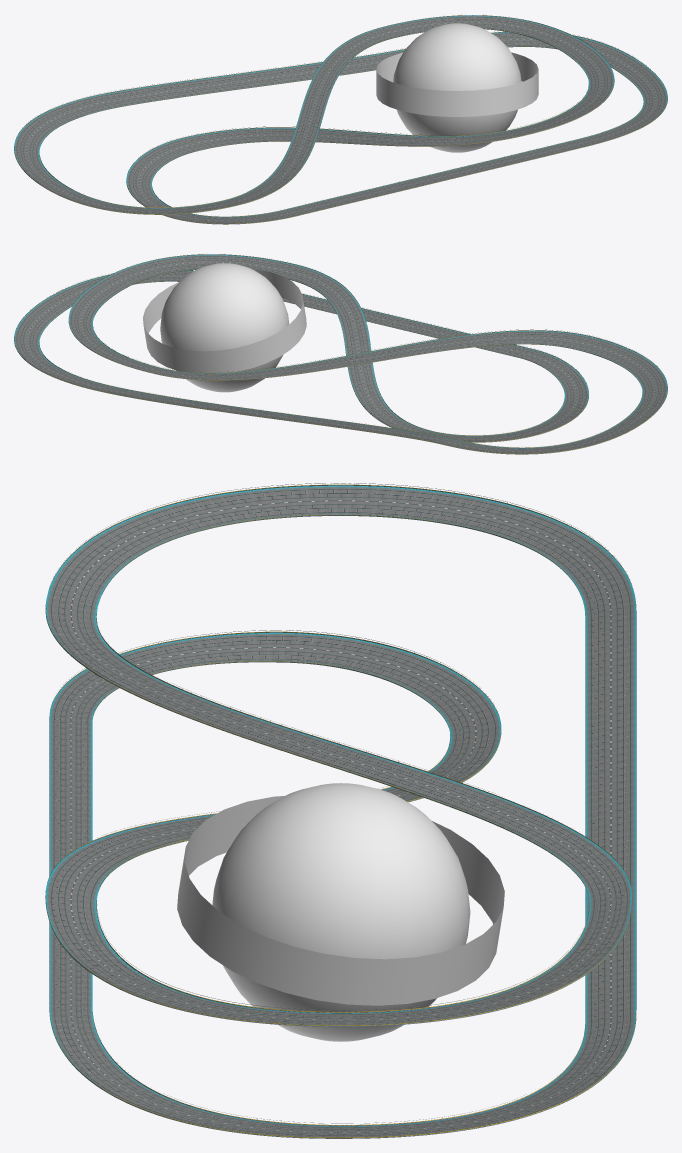
File: ovalTrack.fbx
The picture shows the model from 3 angles, top to bottom: view 1: azimuth 30°, elevation 25°; view 2: azimuth 150°, elevation 25°; view 3: azimuth 270°, elevation 25°; orthographic projection. The views are drawn at different scales.
Parts seen in each view (by area): view 1: MainTrack, Sphere, Circle; view 2: MainTrack, Sphere, Circle; view 3: MainTrack, Sphere, Circle.
Boxes of the visible parts, x1,y1,x2,y2 form: MainTrack: [14, 14, 667, 224]; Sphere: [393, 23, 521, 152]; Circle: [376, 52, 538, 116]; MainTrack: [14, 254, 667, 454]; Sphere: [160, 263, 289, 392]; Circle: [143, 269, 306, 372]; MainTrack: [45, 483, 636, 1138]; Sphere: [212, 783, 470, 1041]; Circle: [177, 796, 504, 1005].
Bounding box in the file's own units: 20754 × 3836 × 8755.
